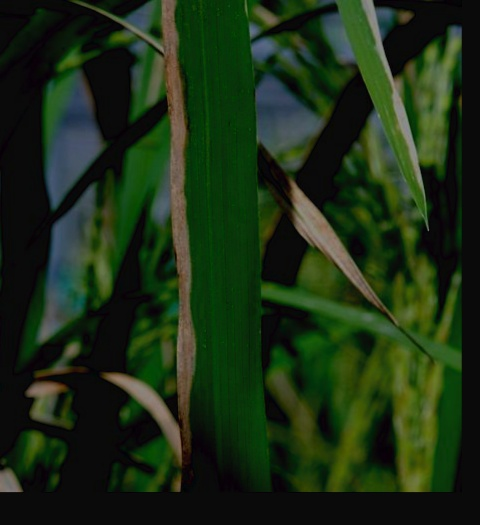Leaf_Blast: (159, 0, 200, 481)
